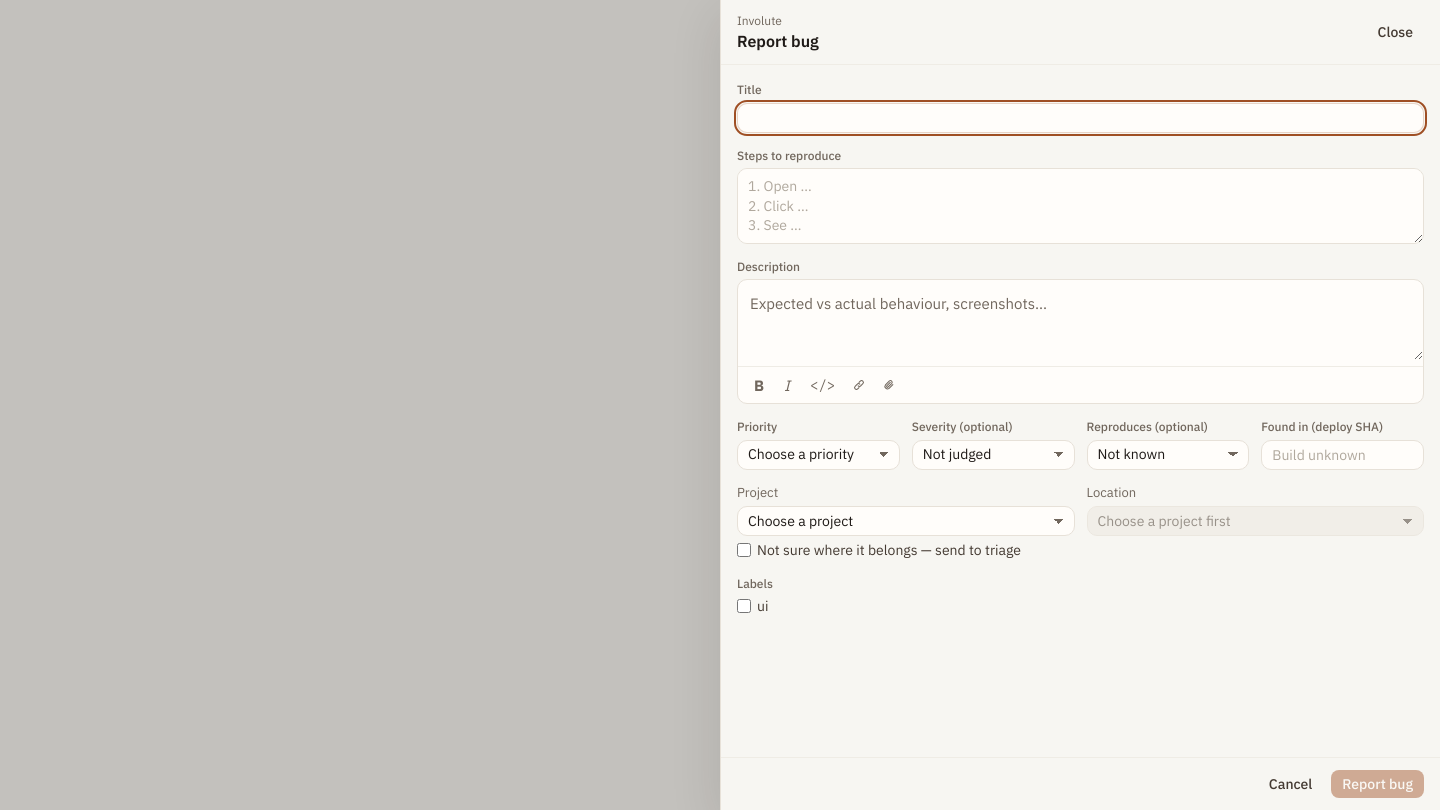
Scenario: ReportBugDialog (INV-749) › reports a bug where it belongs, with priority, steps and extra labels
Expected: the button "Report bug" is disabled, [1331,770,1424,798]
Type "Crash on drag" into the field named "Bug title" at (1080, 118), box [737,103,1424,133]
Type "1. Drag a card" into the text box labelled "Steps to reproduce" at (1080, 206), box [737,168,1424,244]
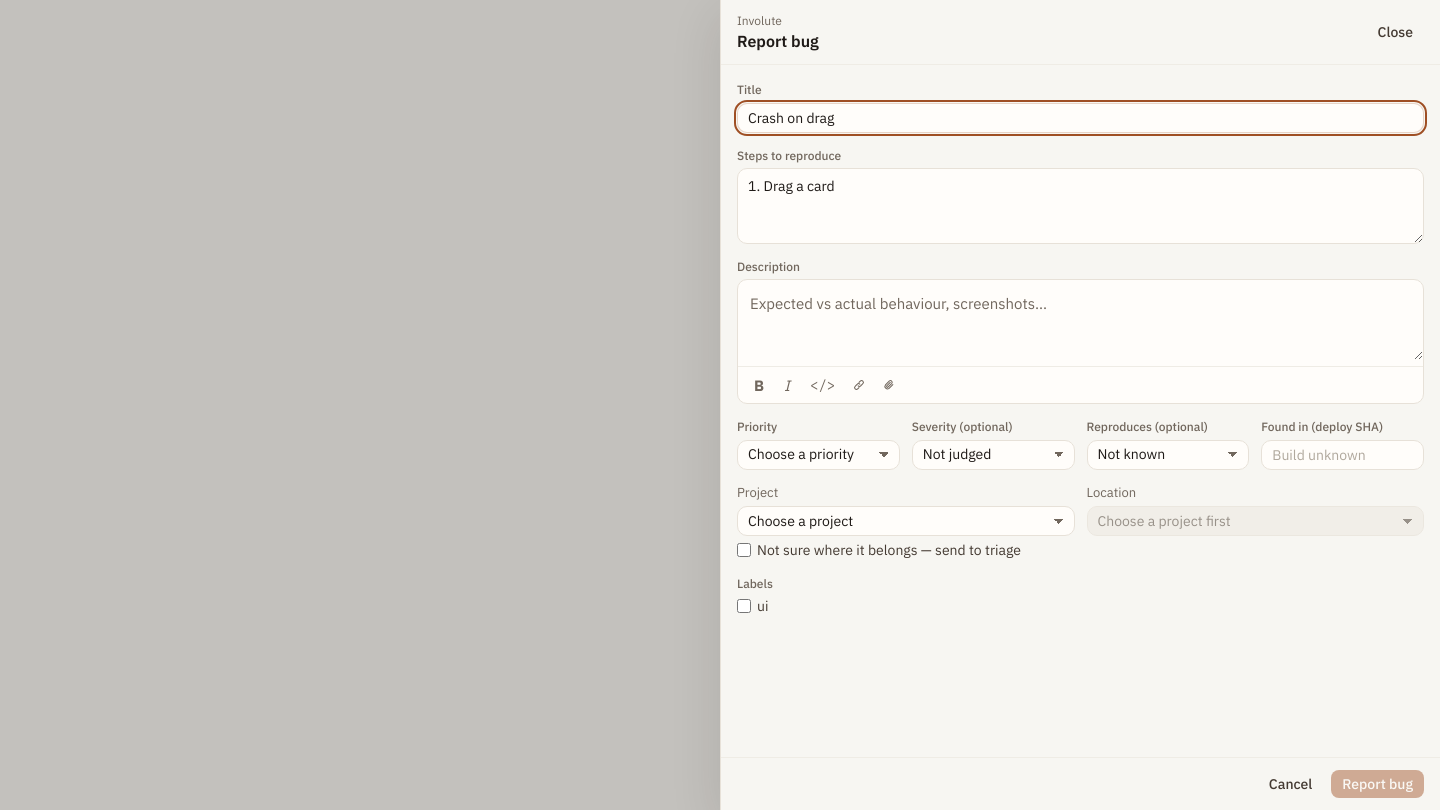
Select "Urgent" in the dropdown named "Bug priority" at (818, 454), box [737,440,900,470]
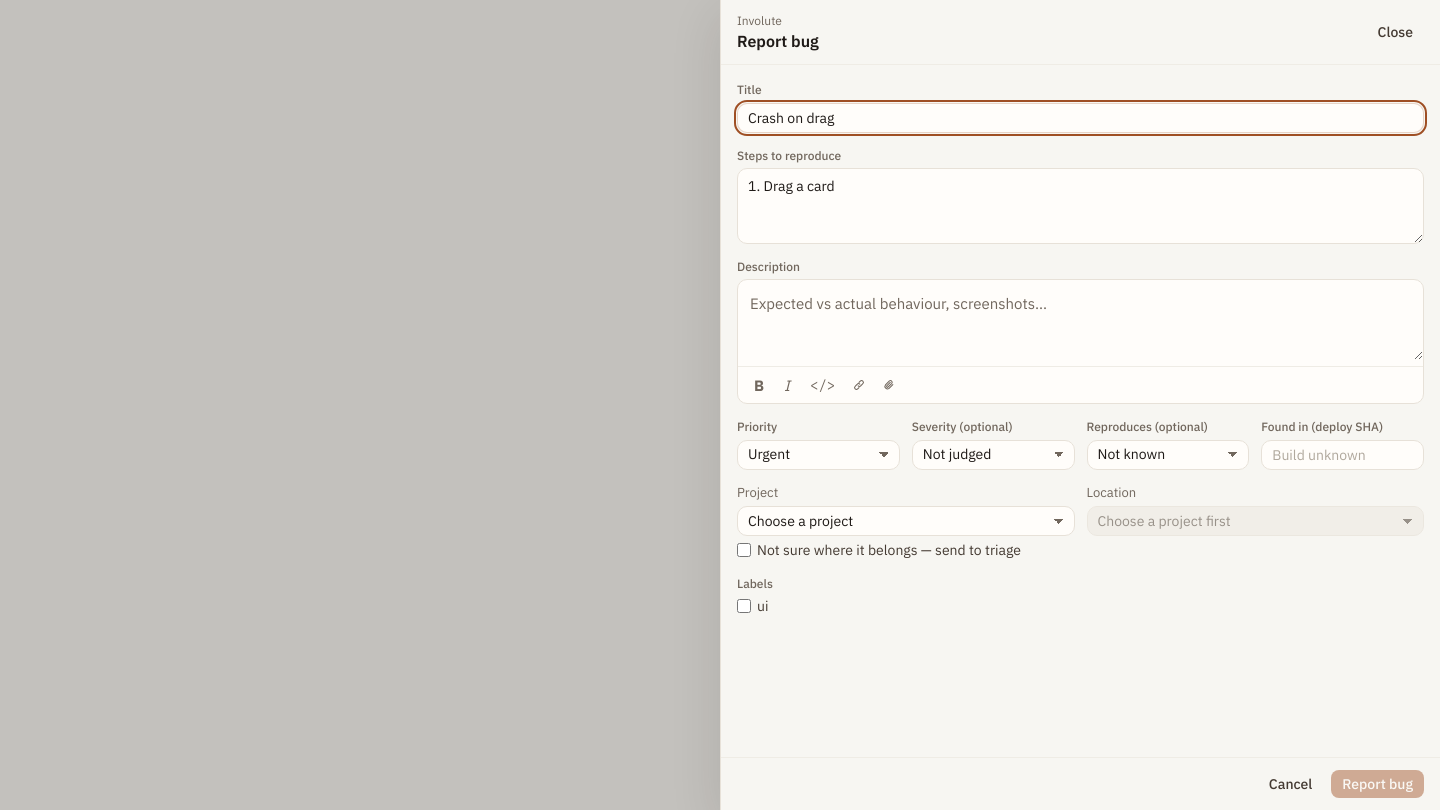
Expected: the button "Report bug" is disabled, [1331,770,1424,798]
Select "Involute" in the dropdown labelled "Project" at (906, 521), box [737,506,1074,536]
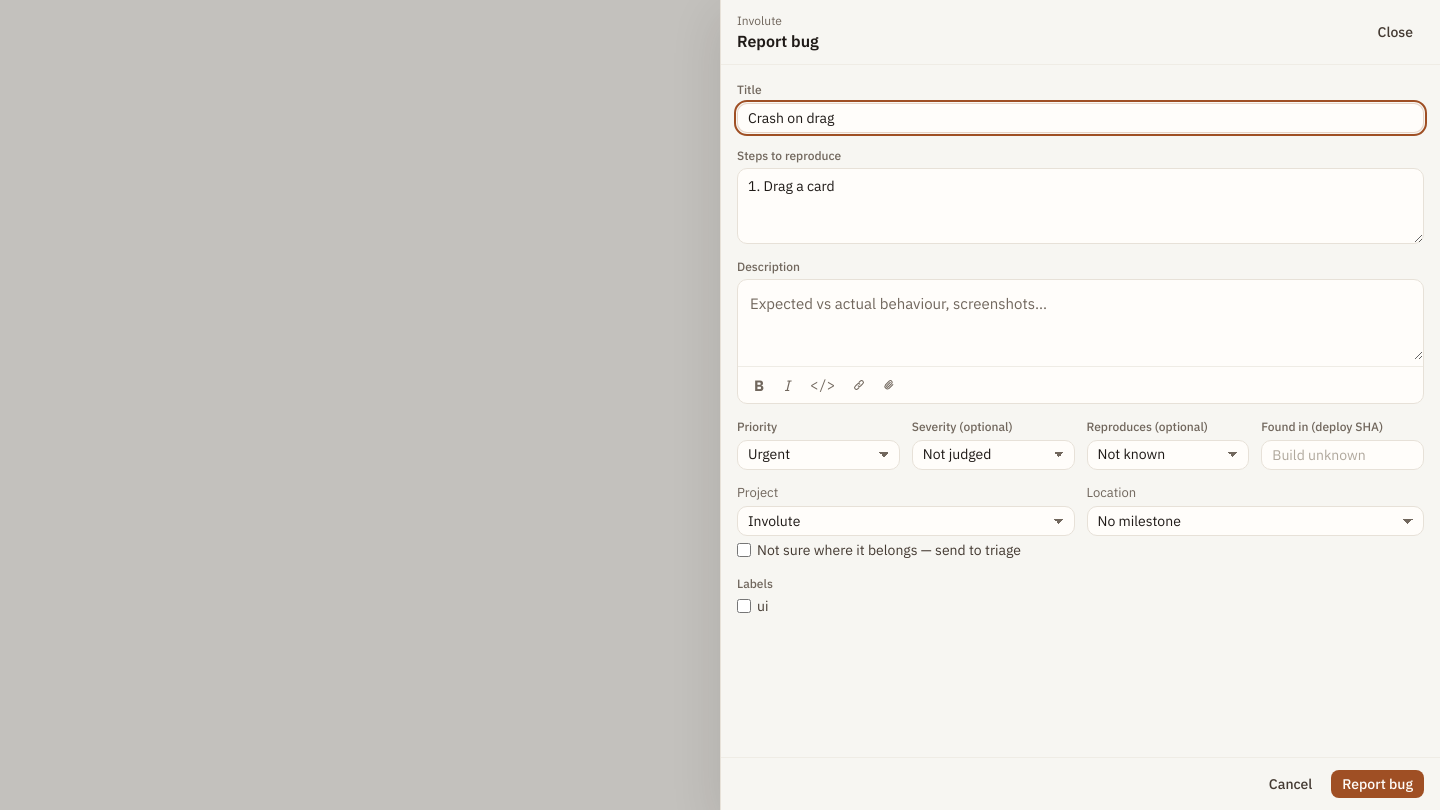
Select "INV-5 — M1" in the dropdown labelled "Location" at (1255, 521), box [1086,506,1424,536]
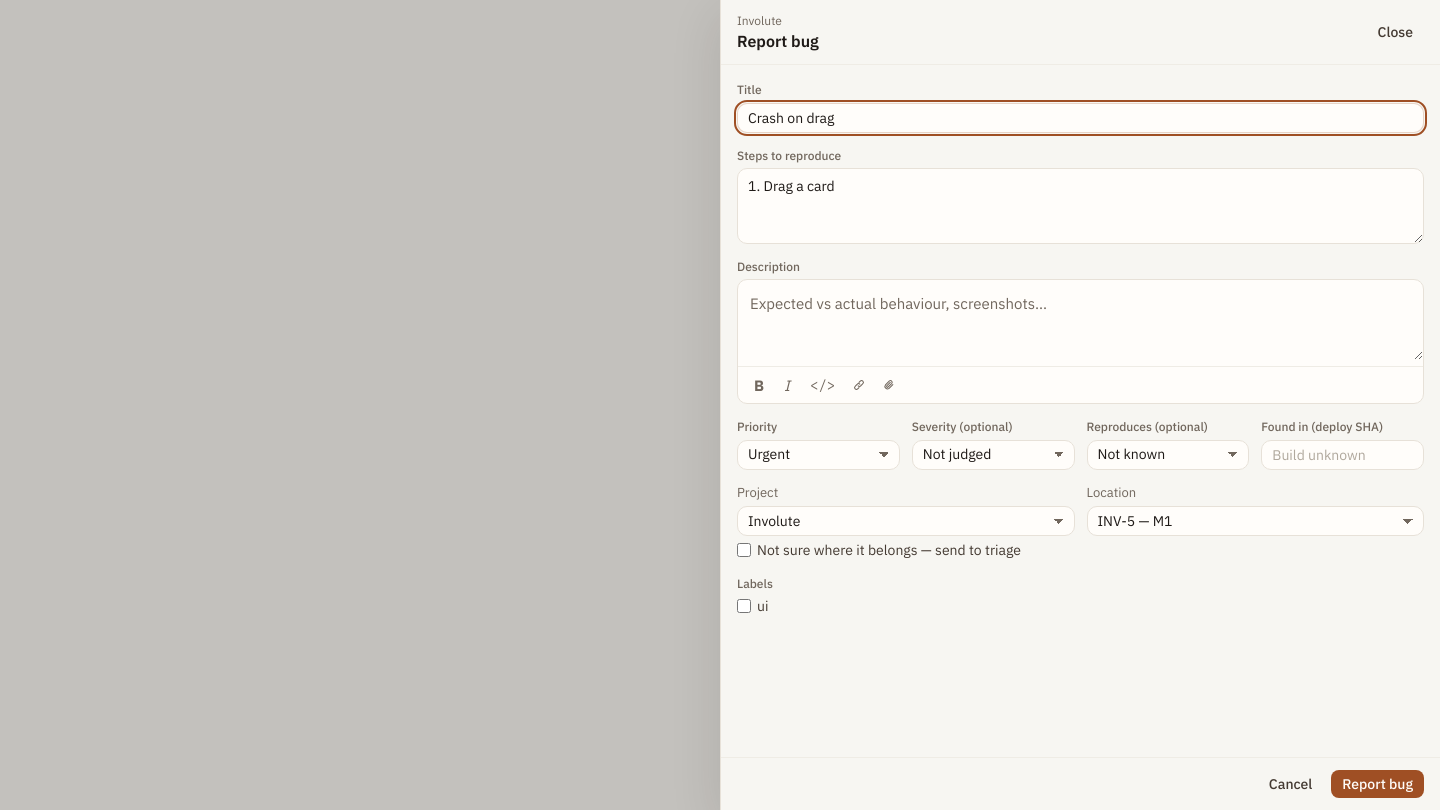
Click the checkbox labelled "ui" at (744, 606), box [737,599,751,613]
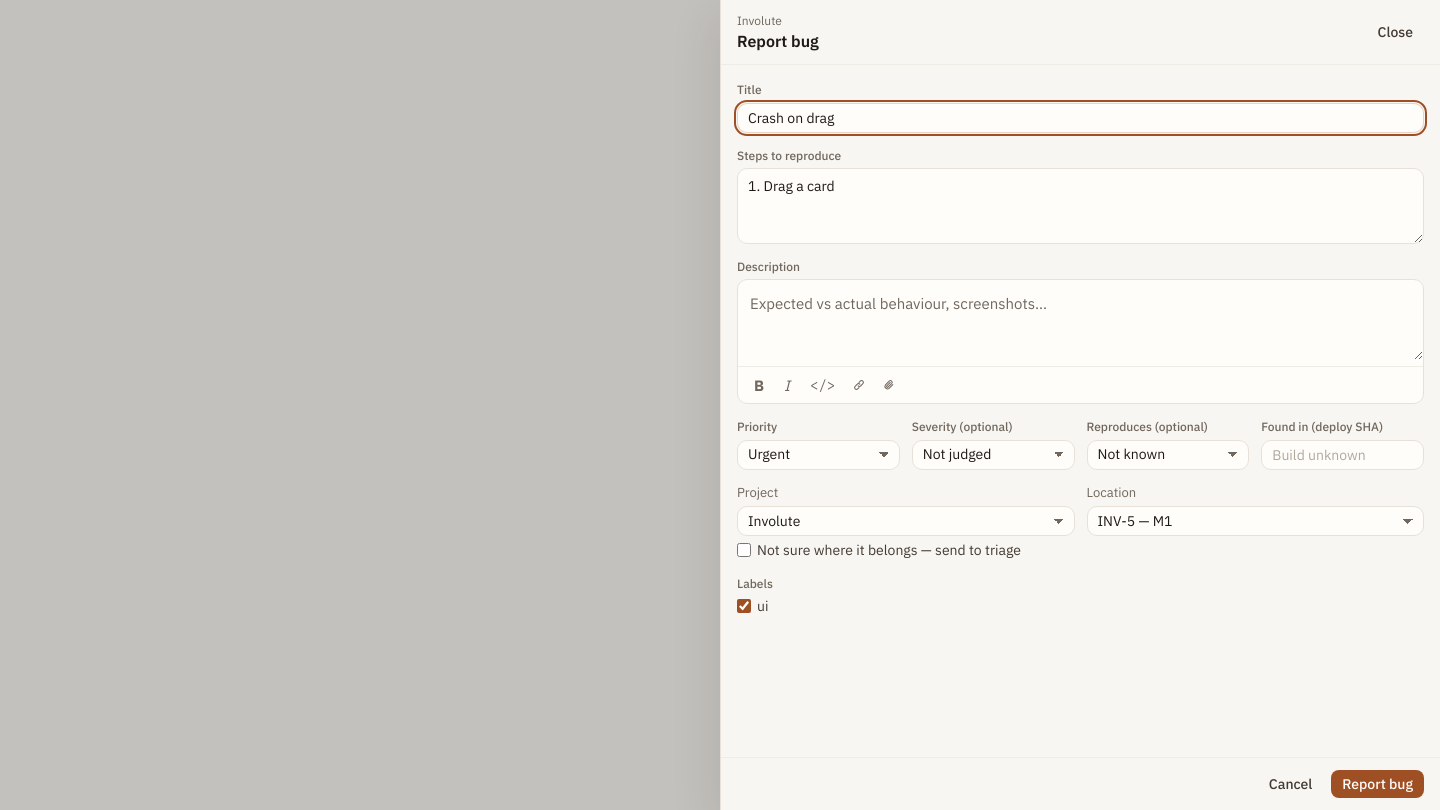
Click the button "Report bug" at (1378, 784), box [1331,770,1424,798]
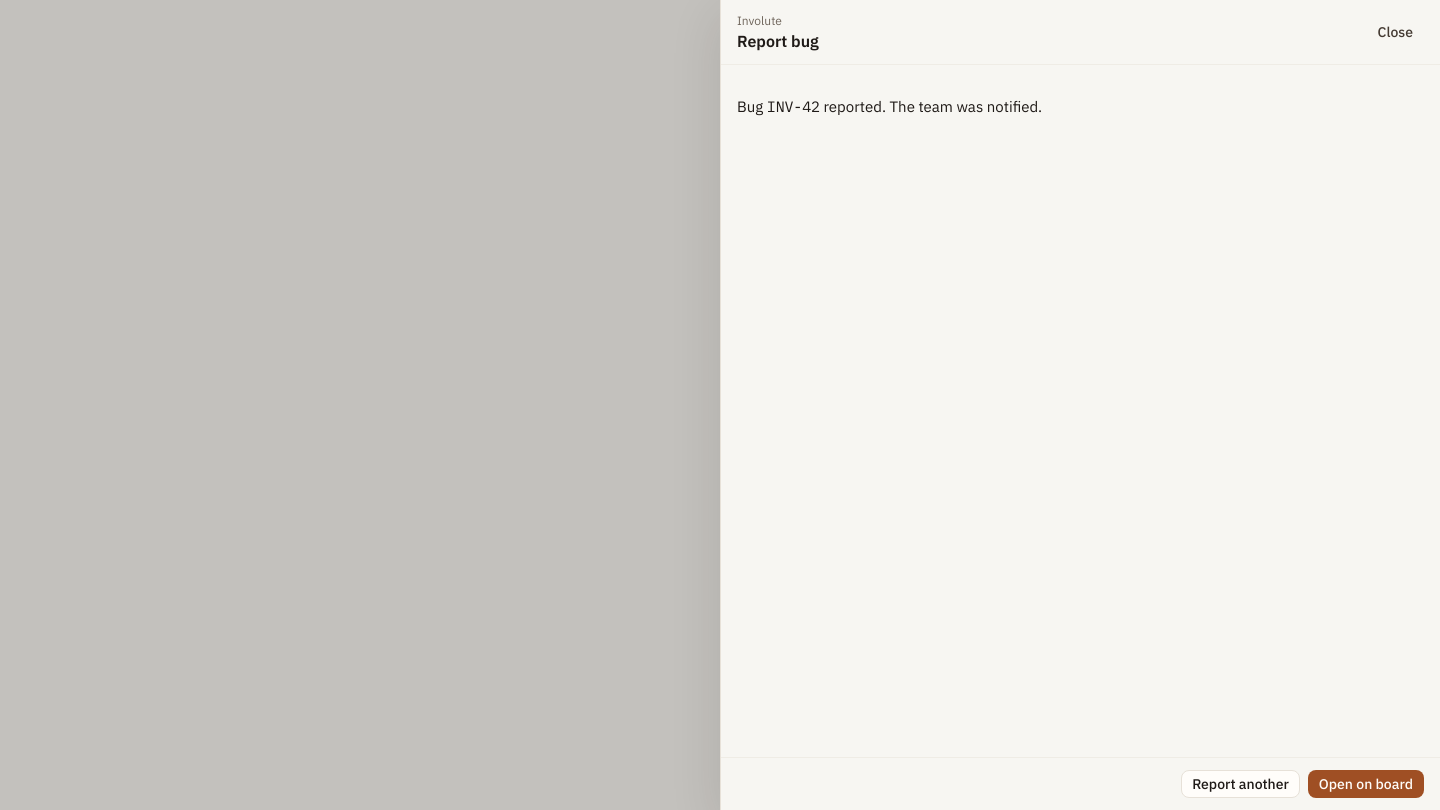
Now the message shows "INV-42 reported", box [737,97,1042,116]
